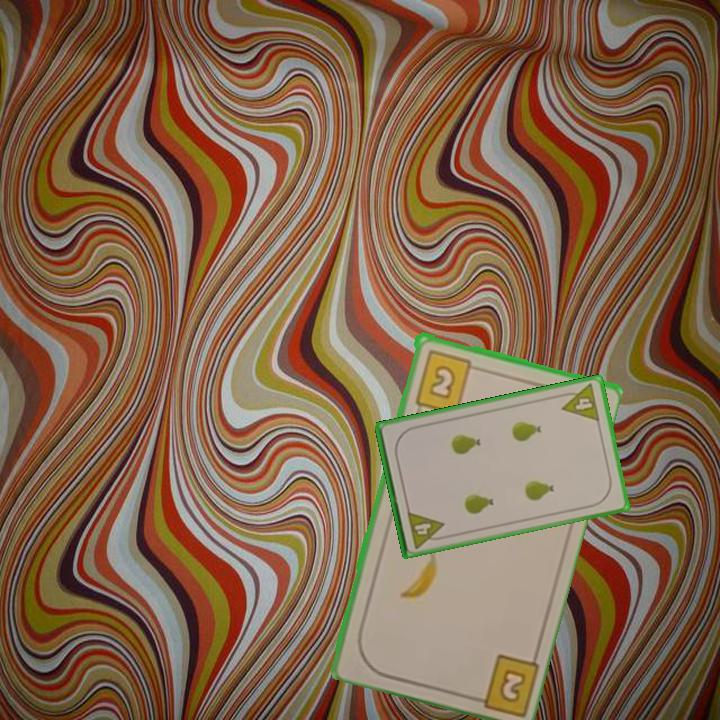2b: (463, 649, 540, 716), (410, 346, 483, 416)
4p: (556, 380, 602, 424), (404, 507, 449, 551)
